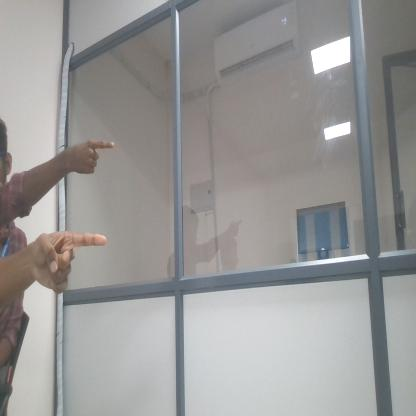Left: (36, 210, 113, 302), (49, 120, 126, 186)
